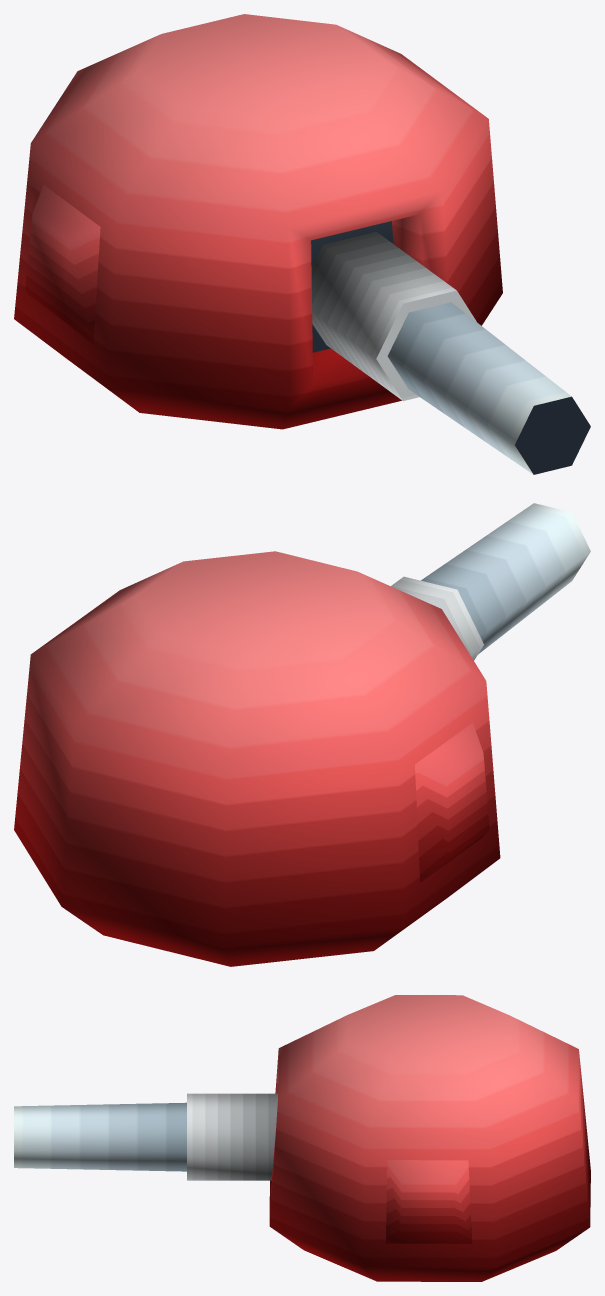
File: canon.fbx
3 views of the same model, one above another, from view 1: azimuth 30°, elevation 25°; view 2: azimuth 150°, elevation 25°; view 3: azimuth 270°, elevation 25° (orthographic). The views are drawn at different scales.
Parts seen in each view (by area): view 1: canon; view 2: canon; view 3: canon.
Part boxes in pixels (x1=…): canon: x1=14, y1=14, x2=590, y2=474; canon: x1=14, y1=503, x2=590, y2=966; canon: x1=14, y1=995, x2=590, y2=1281.
Bounding box in the file's own units: 23.24 × 14.69 × 38.56.
